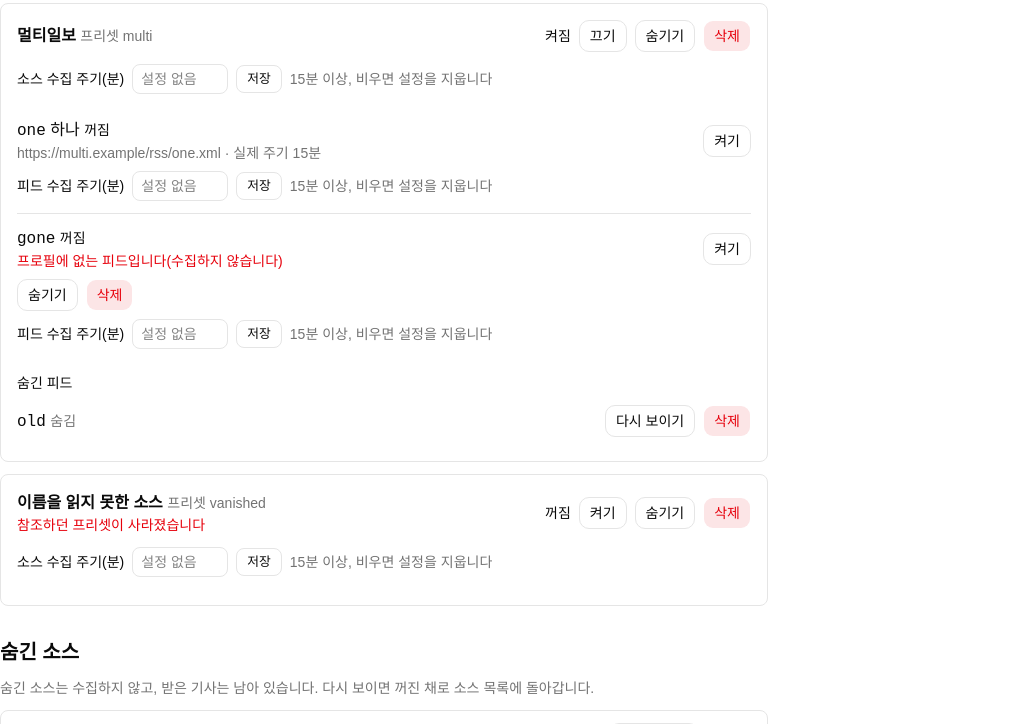
Test: SourcesPage › 다른 곳에서 먼저 지운 소스를 지우면 서버의 문구를 보인다
The image size is (1024, 724).
(page scrolled)
Check: the text "one" is shown, box [17,122,46,140]
What coordinates should you click on to do the following:
click the button "삭제" in the row of "프리셋 vanished"
I would click on:
 (727, 513)
Its box is [703,497,751,529].
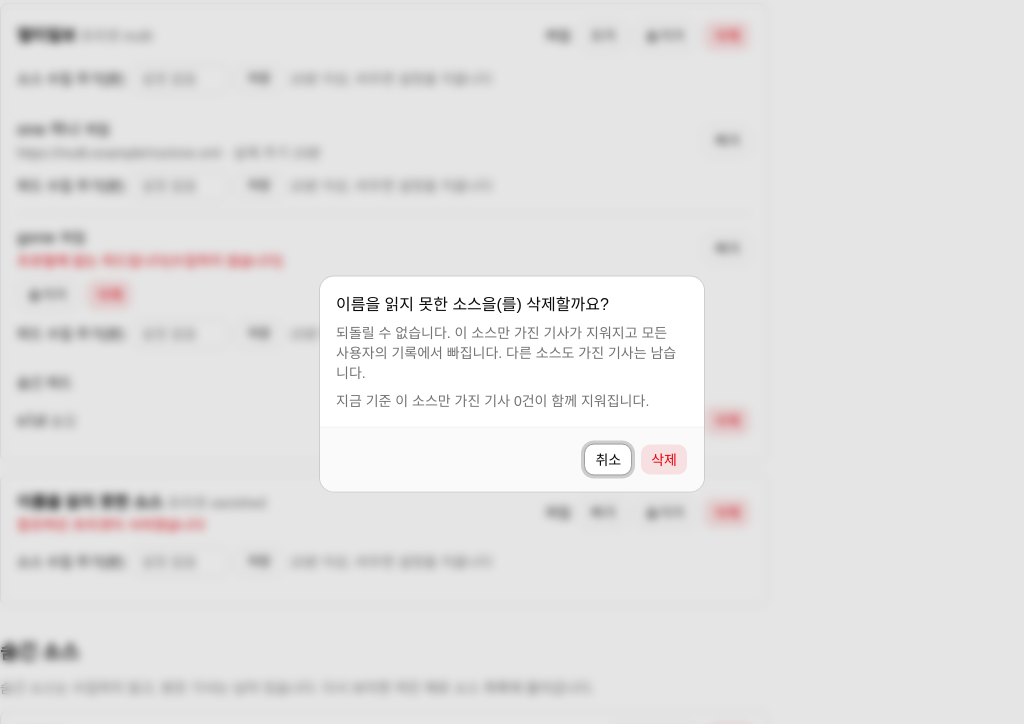
Check: the dialog does not show "켜져 있는 소스입니다", box [320,276,704,492]
Check: the text "지금 기준 이 소스만 가진 기사 0건이 함께 지워집니다." is shown, box [336,390,688,410]
What coordinates should you click on to do the following:
click the button "삭제"
I would click on:
 (664, 460)
Its box is [640,444,688,476].
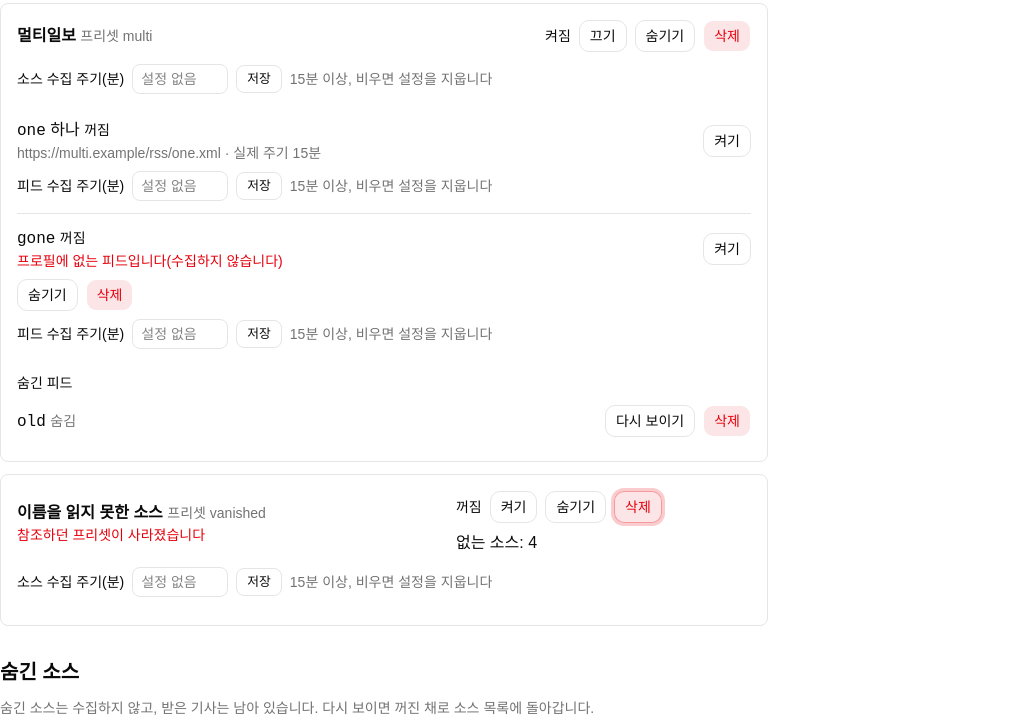
Check: the text "없는 소스: 4" is shown, box [456,534,537,551]
